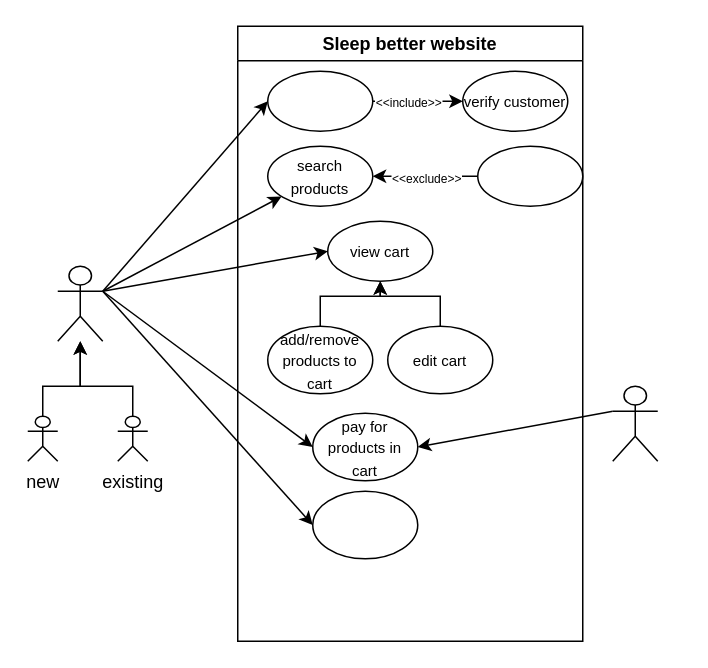
This 708x668 diagram has some shape labels left out. The shapes that lost their labels are listed below. From the top down, each one's centre as x and y in pixels, then its label:
At (319,100): "login".
At (529,175): "add product".
At (79,303): "customer".
At (634,423): "Bank server".
At (364,524): "digital receipt".
